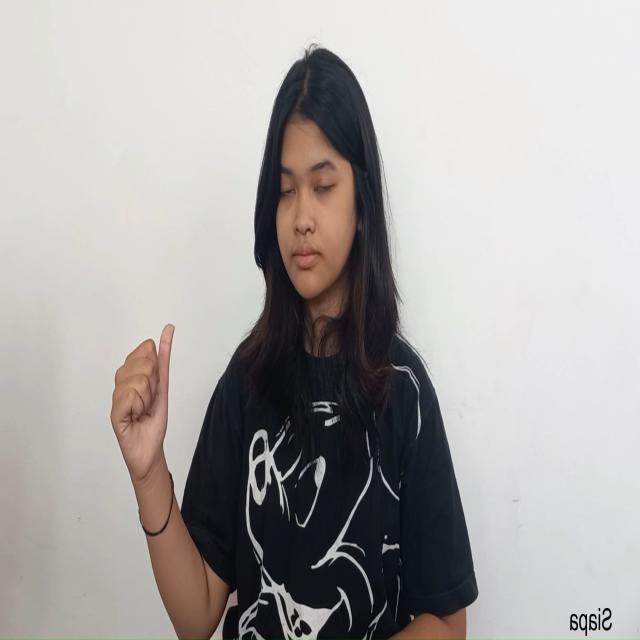Siapa -BISINDO-: (109, 319, 177, 505)
